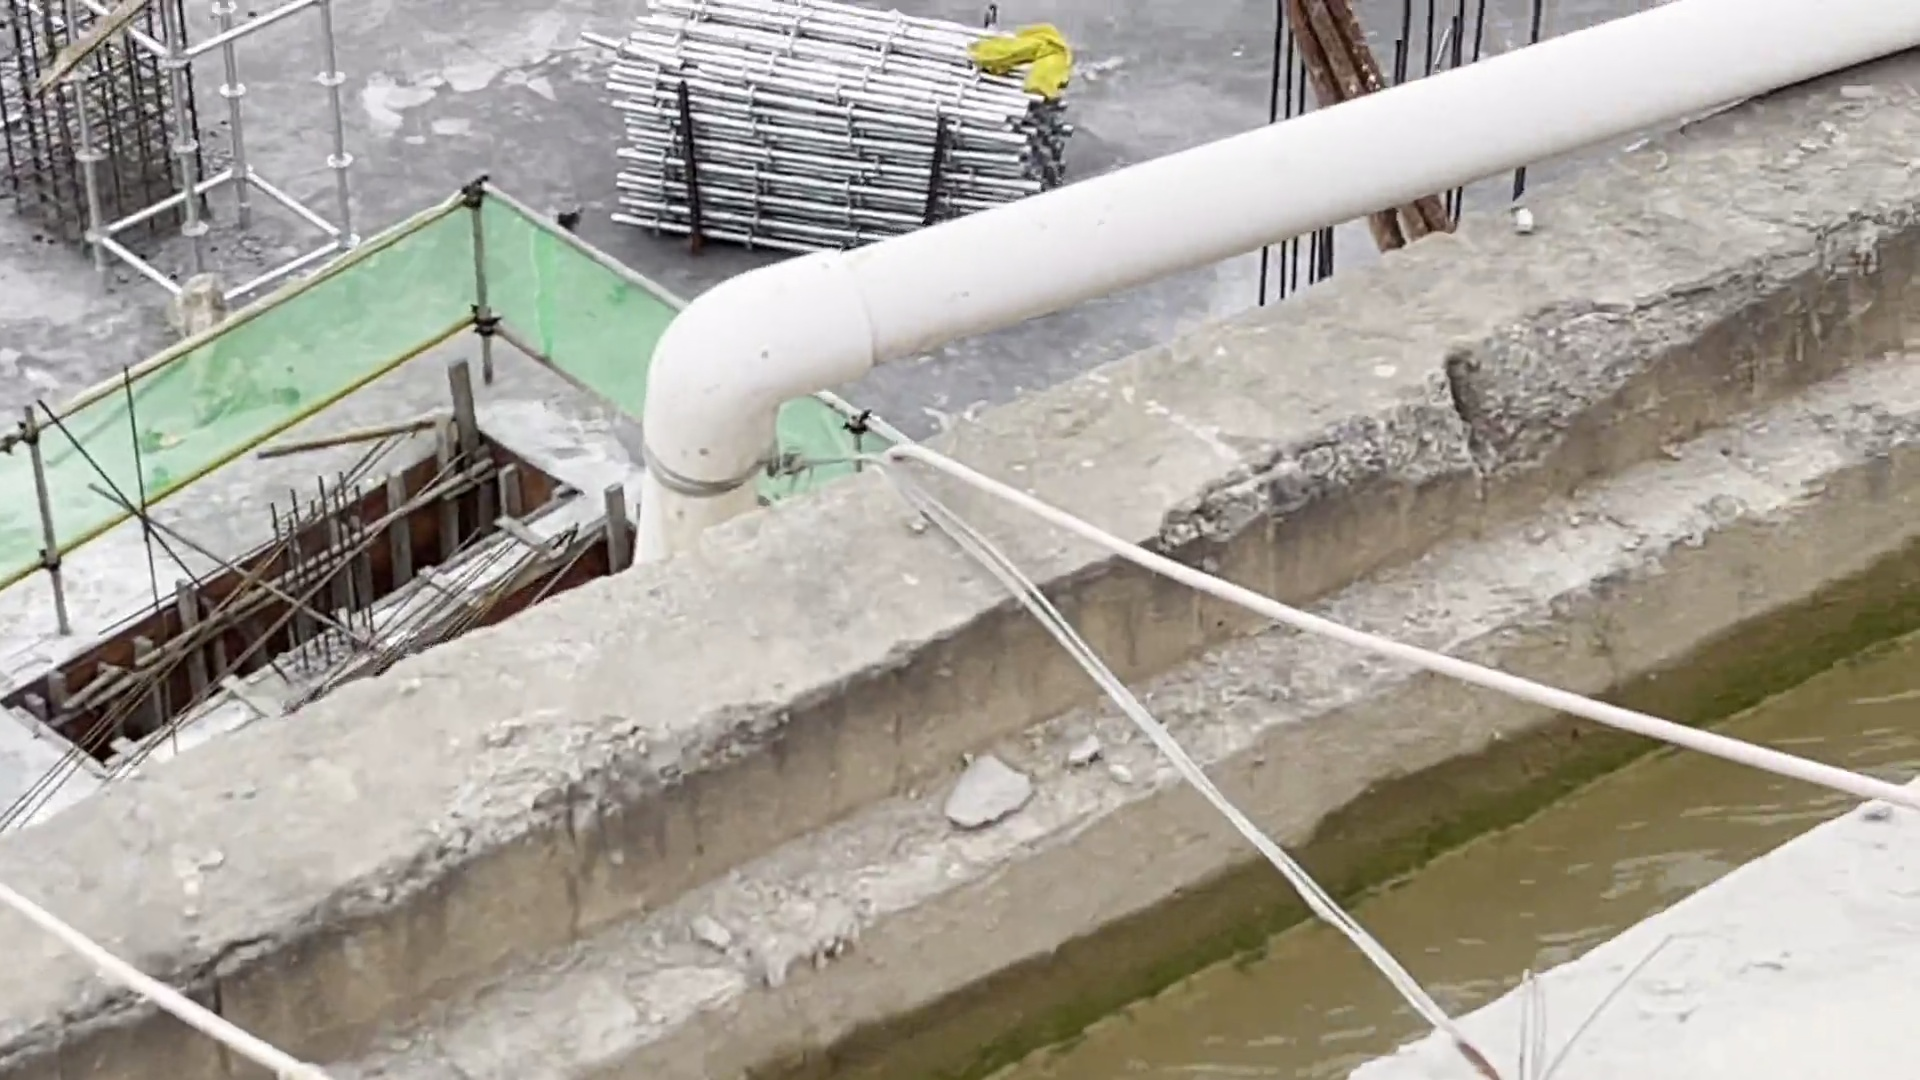scaffold: (603, 1, 1072, 253)
